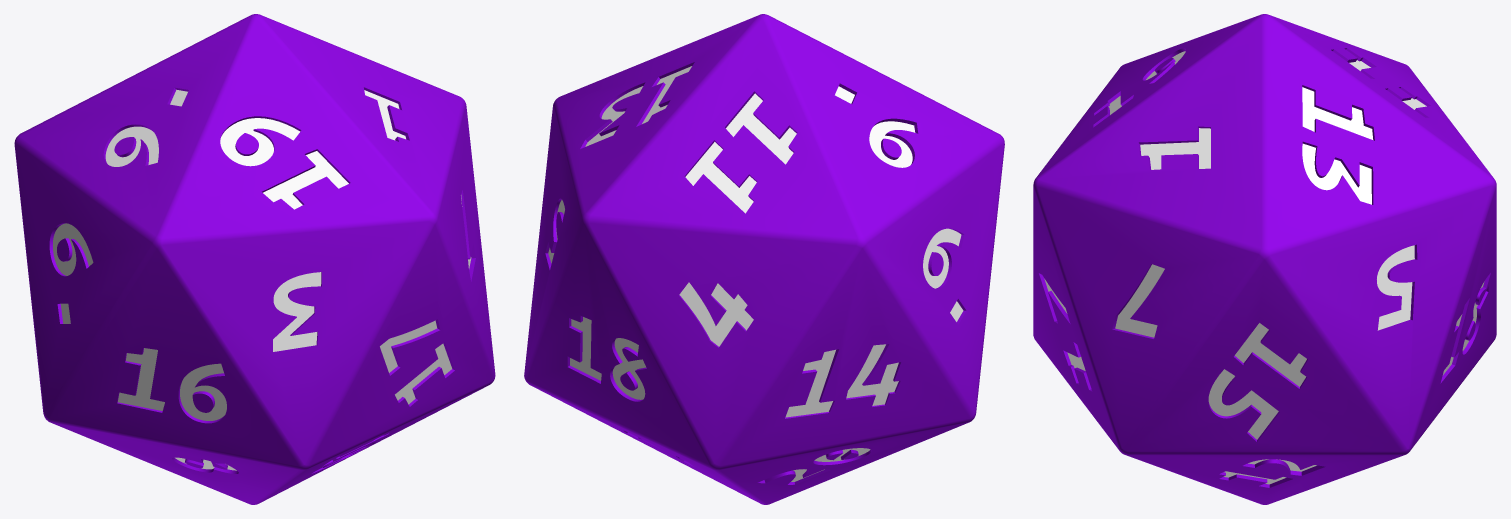
The model's file is dice3.glb.
The picture shows the model from 3 angles, left to right: view 1: azimuth 30°, elevation 25°; view 2: azimuth 150°, elevation 25°; view 3: azimuth 270°, elevation 25°; orthographic projection.
Parts seen in each view (by area): view 1: Solid; view 2: Solid; view 3: Solid.
Boxes of the visible parts, bbox=[...] form: Solid: bbox=[14, 14, 495, 504]; Solid: bbox=[524, 14, 1004, 504]; Solid: bbox=[1033, 14, 1496, 504].
Bounding box in the file's own units: 5.35 × 5.94 × 5.09.
